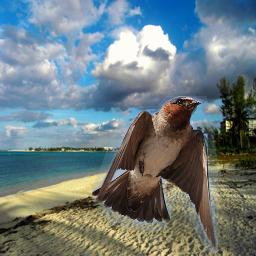Swallow: (92, 96, 218, 253)
